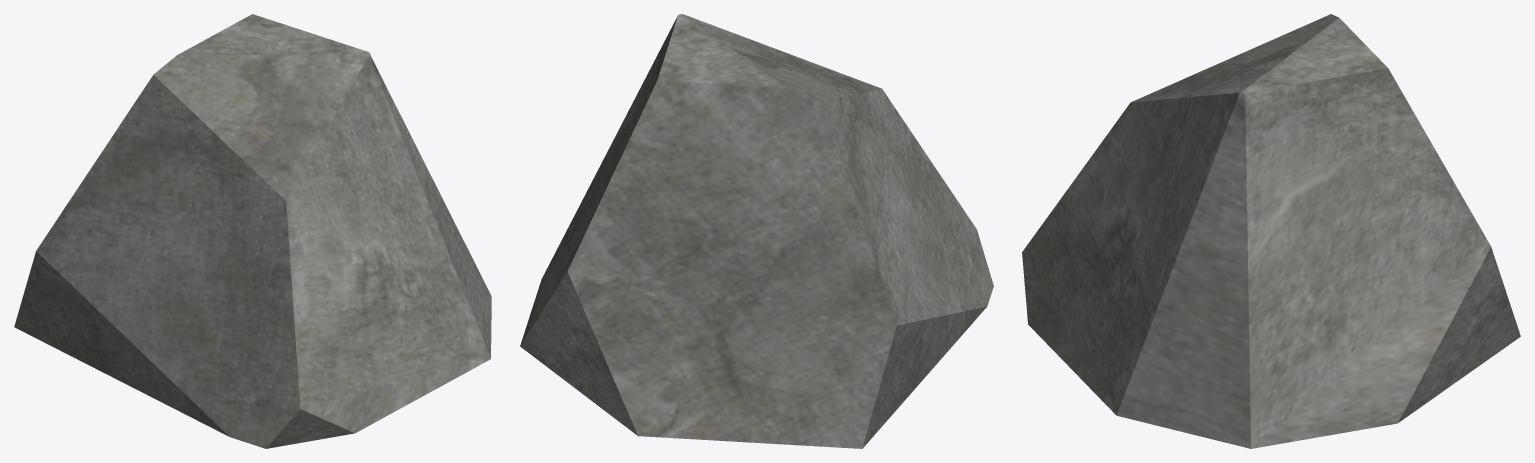
The model's file is SM_Env_Rock2.fbx.
3 views of the same model, side by side, from view 1: azimuth 30°, elevation 25°; view 2: azimuth 150°, elevation 25°; view 3: azimuth 270°, elevation 25° (orthographic). The views are drawn at different scales.
Parts seen in each view (by area): view 1: SM_Env_Rock2; view 2: SM_Env_Rock2; view 3: SM_Env_Rock2.
Part boxes in pixels (x1=…): SM_Env_Rock2: x1=14, y1=14, x2=491, y2=448; SM_Env_Rock2: x1=520, y1=14, x2=993, y2=448; SM_Env_Rock2: x1=1022, y1=14, x2=1520, y2=448.
Size of the model in its own units: 34.39 by 23.07 by 35.8.
